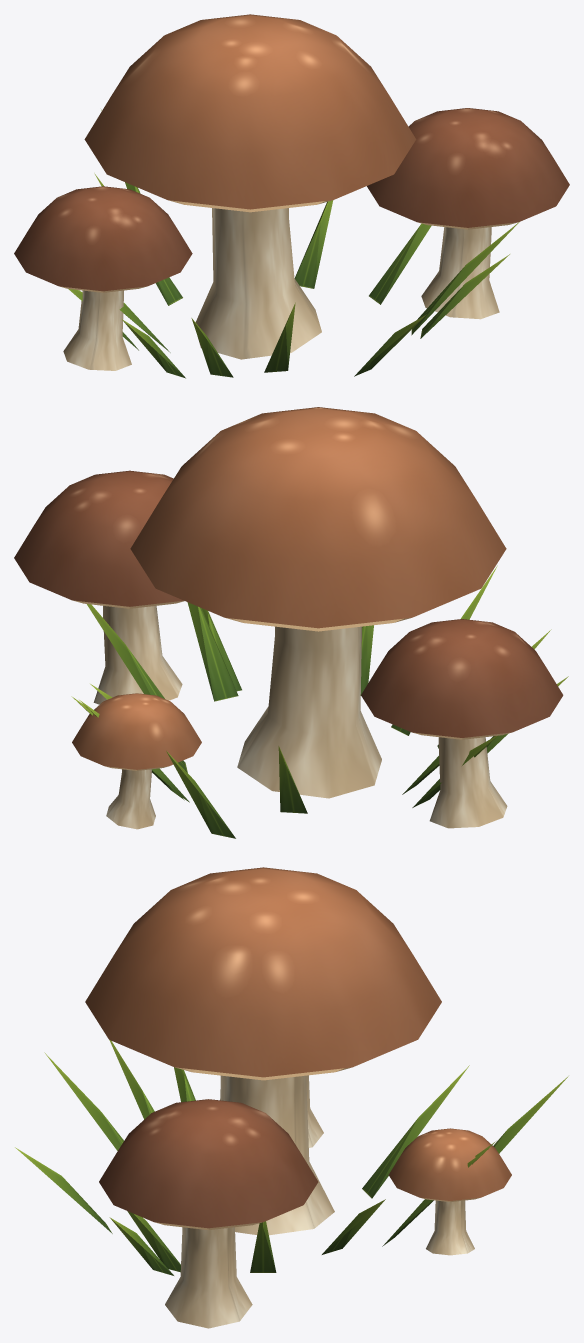
Rendered from champignons.glb.
3 renders of one model, top to bottom at view 1: azimuth 30°, elevation 25°; view 2: azimuth 150°, elevation 25°; view 3: azimuth 270°, elevation 25°, orthographic. The views are drawn at different scales.
Visible parts, largest first — view 1: champignons; view 2: champignons; view 3: champignons.
Boxes of the visible parts, x1,y1,x2,y2 form: champignons: [14, 14, 569, 378]; champignons: [14, 407, 568, 838]; champignons: [15, 867, 568, 1328].
Size of the model in its own units: 0.5595 by 0.3243 by 0.5061.
5 materials, 5 textured.
